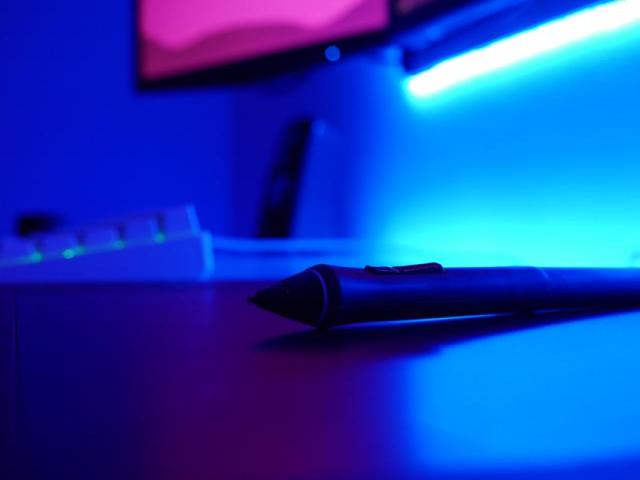PEN: (235, 254, 640, 339)
